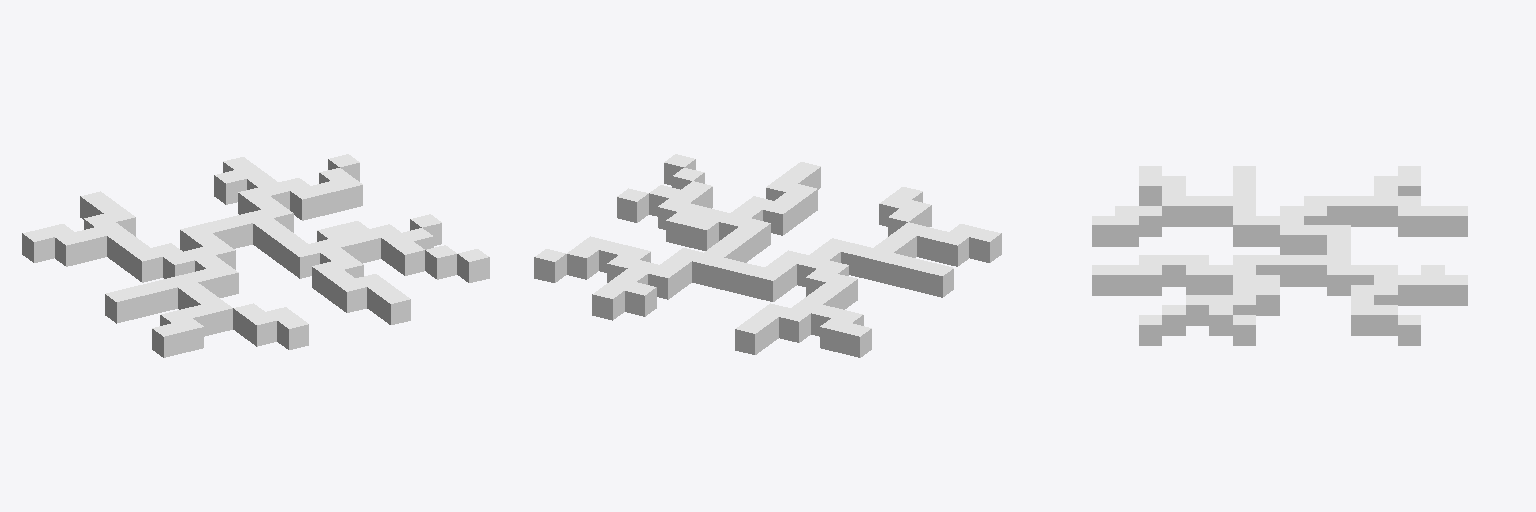
The model's file is deco_6.obj.
3 views of the same model, side by side, from view 1: azimuth 30°, elevation 25°; view 2: azimuth 150°, elevation 25°; view 3: azimuth 270°, elevation 25° (orthographic).
Size of the model in its own units: 16 by 1 by 16.